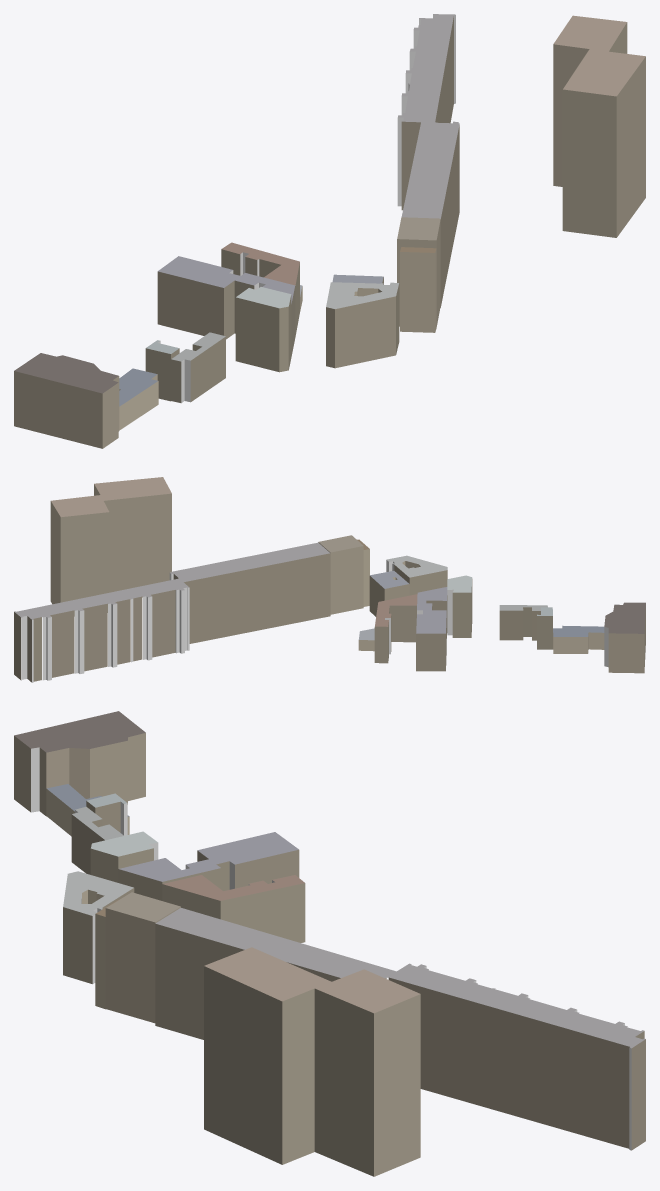
3 views of the same model, one above another, from view 1: azimuth 30°, elevation 25°; view 2: azimuth 150°, elevation 25°; view 3: azimuth 270°, elevation 25° (orthographic). The views are drawn at different scales.
Parts seen in each view (by area): view 1: tuile; view 2: tuile; view 3: tuile.
Part boxes in pixels (x1,y1,x2,y2): tuile: [14, 14, 645, 448]; tuile: [14, 477, 645, 682]; tuile: [14, 711, 645, 1176].
Size of the model in its own units: 244 by 47.67 by 160.
